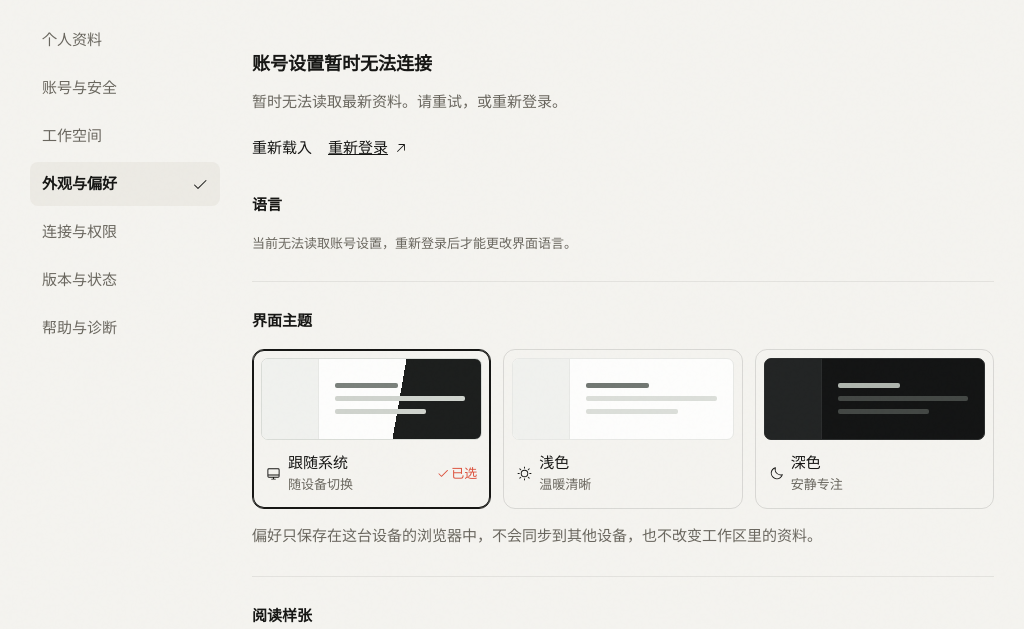
it: appearance › previews, cancels and saves a theme draft, then reloads the saved choice
This screenshot has width=1024, height=629.
Click the radio button labelled "深色 安静专注" at {"x": 874, "y": 429}, box left=755, top=349, right=994, bottom=509
(page scrolled)
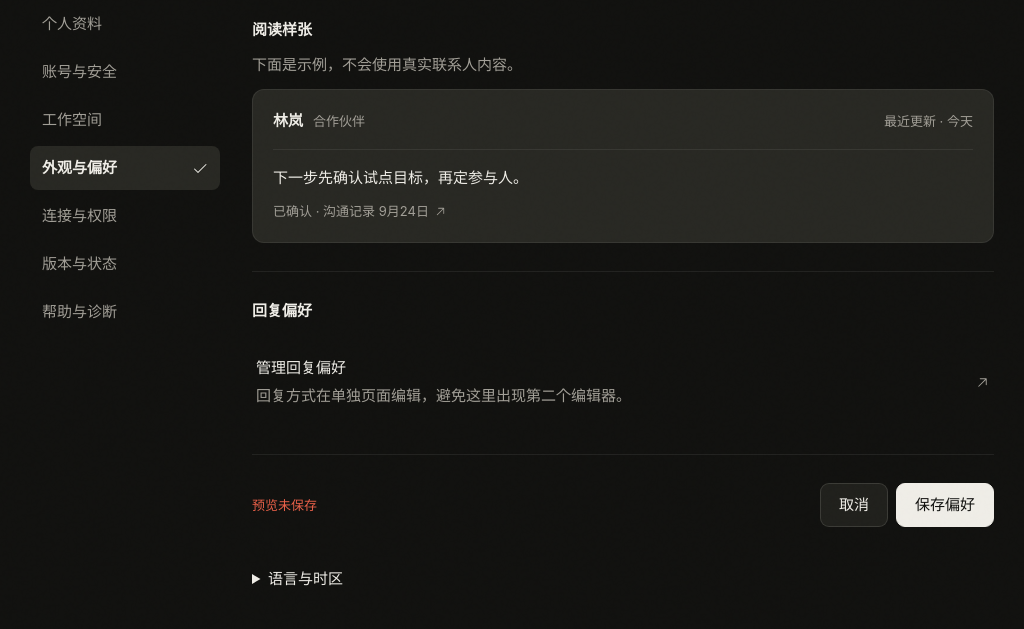
Check: the text "预览未保存" is shown, box left=252, top=495, right=317, bottom=516
Click the button "取消" at {"x": 854, "y": 506}, box left=820, top=484, right=888, bottom=528
(page scrolled)
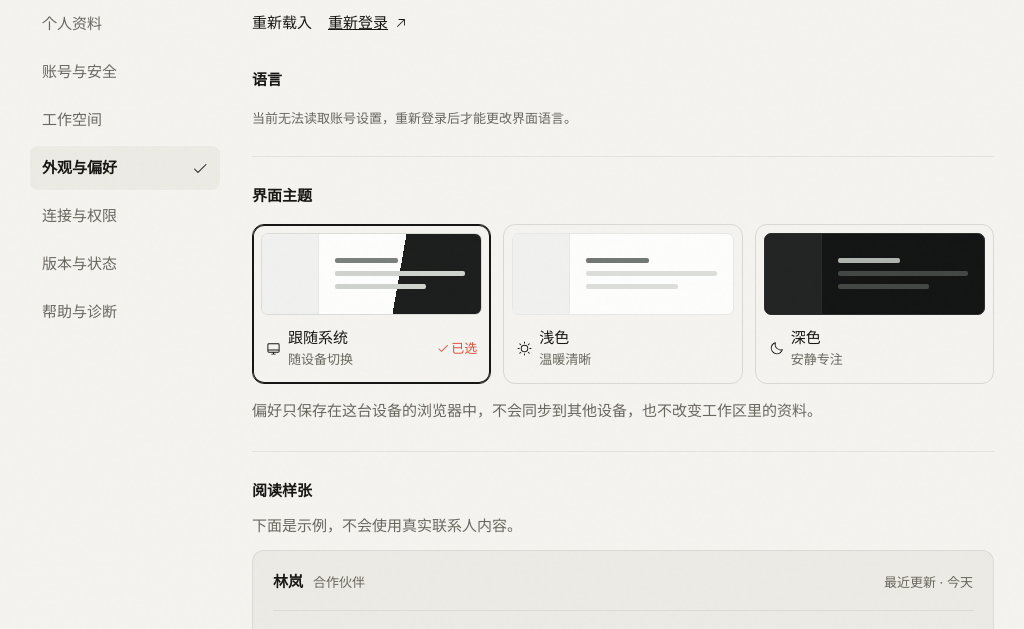
Check: the text "预览未保存" is gone
Click the radio button labelled "深色 安静专注" at {"x": 874, "y": 304}, box left=755, top=224, right=994, bottom=384
(page scrolled)
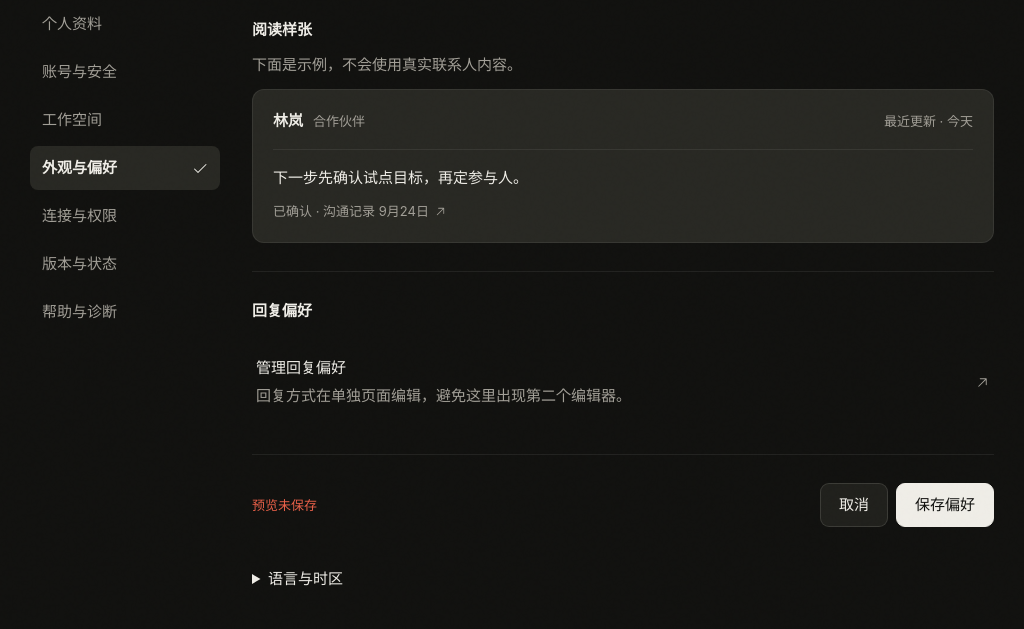
Click the button "保存偏好" at {"x": 945, "y": 506}, box left=896, top=484, right=994, bottom=528
(page scrolled)
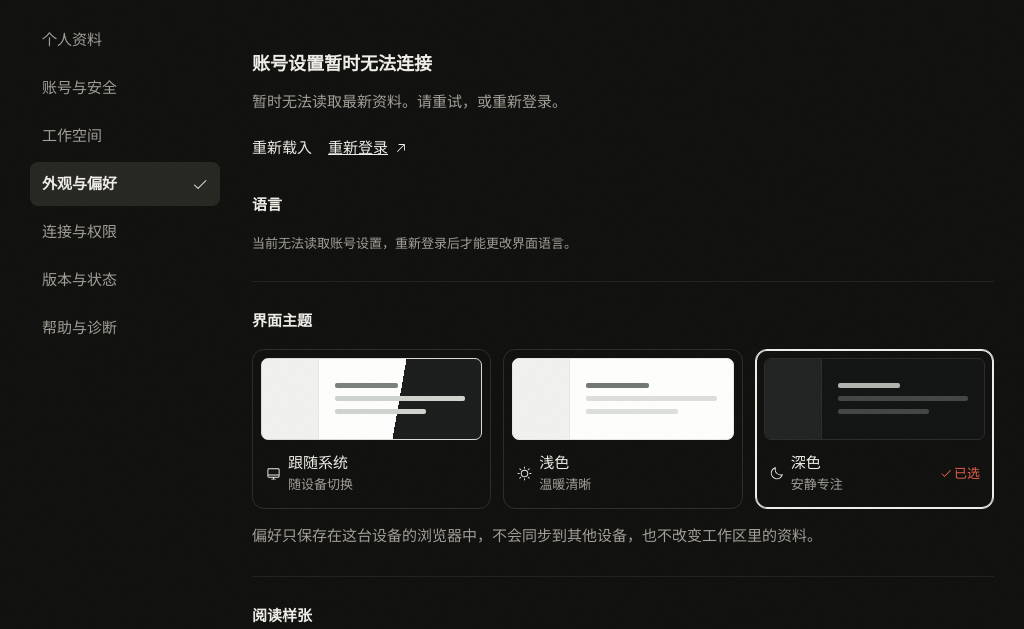
Check: the text "预览未保存" is gone
